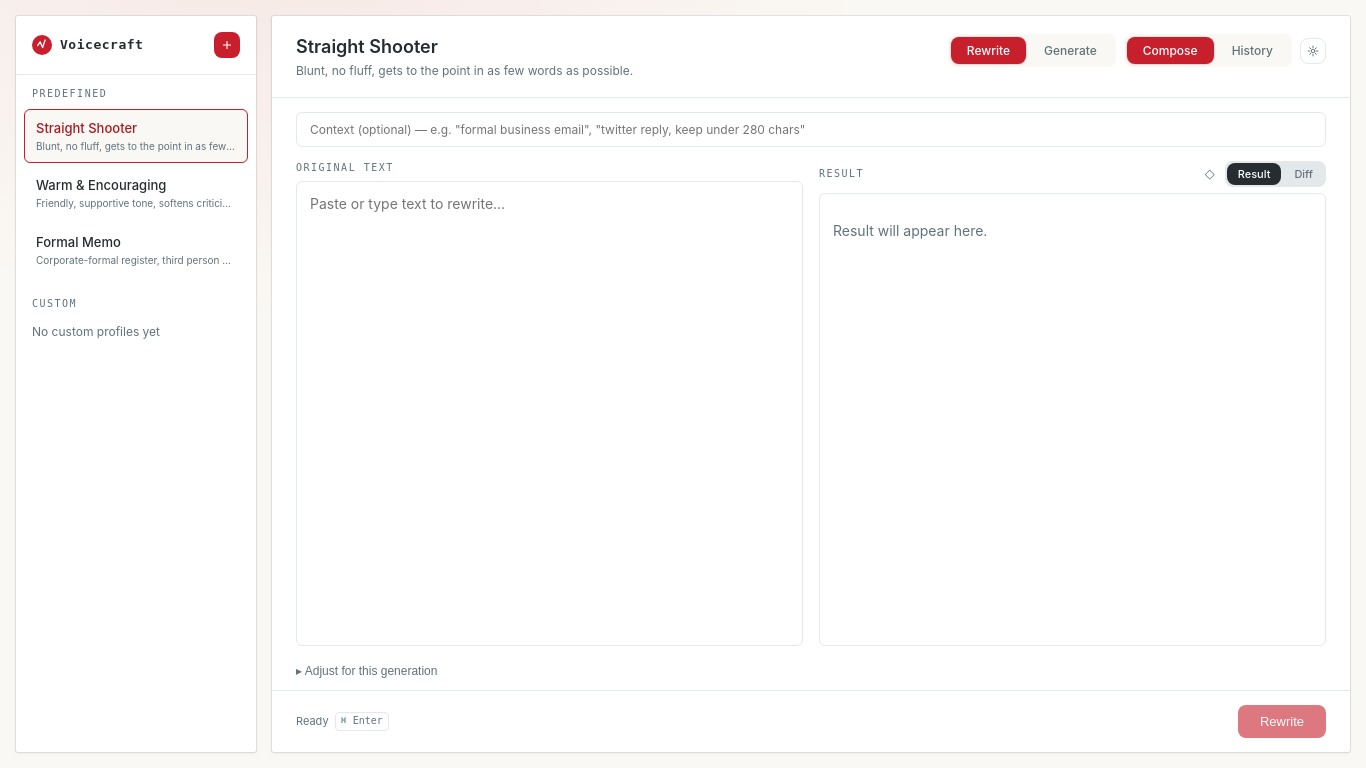
App › runs a rewrite and shows the result
Type "hey there" into the text box with placeholder "Paste or type text to rewrite..." at (550, 414), box x1=296 y1=181 x2=803 y2=646
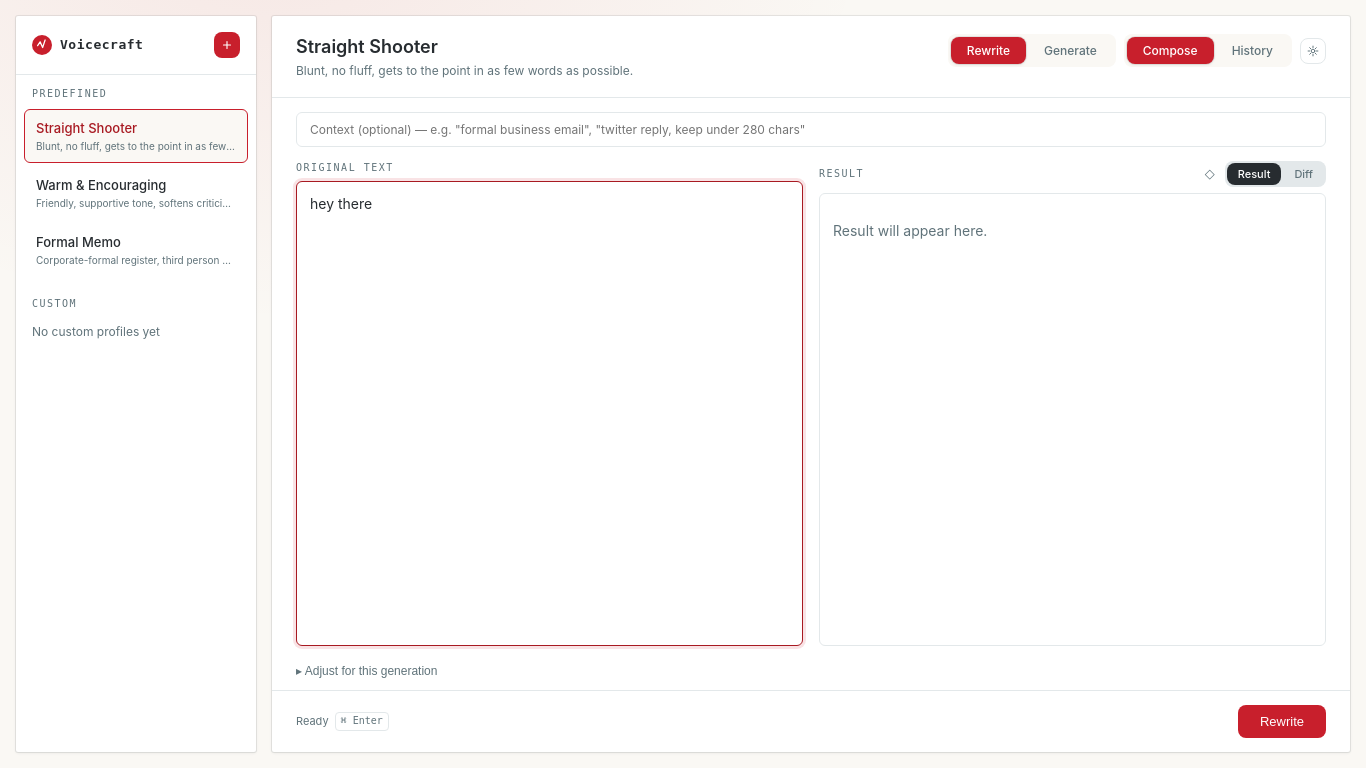
Click the button with test id "run-btn" at (1282, 722), box x1=1238 y1=705 x2=1326 y2=738
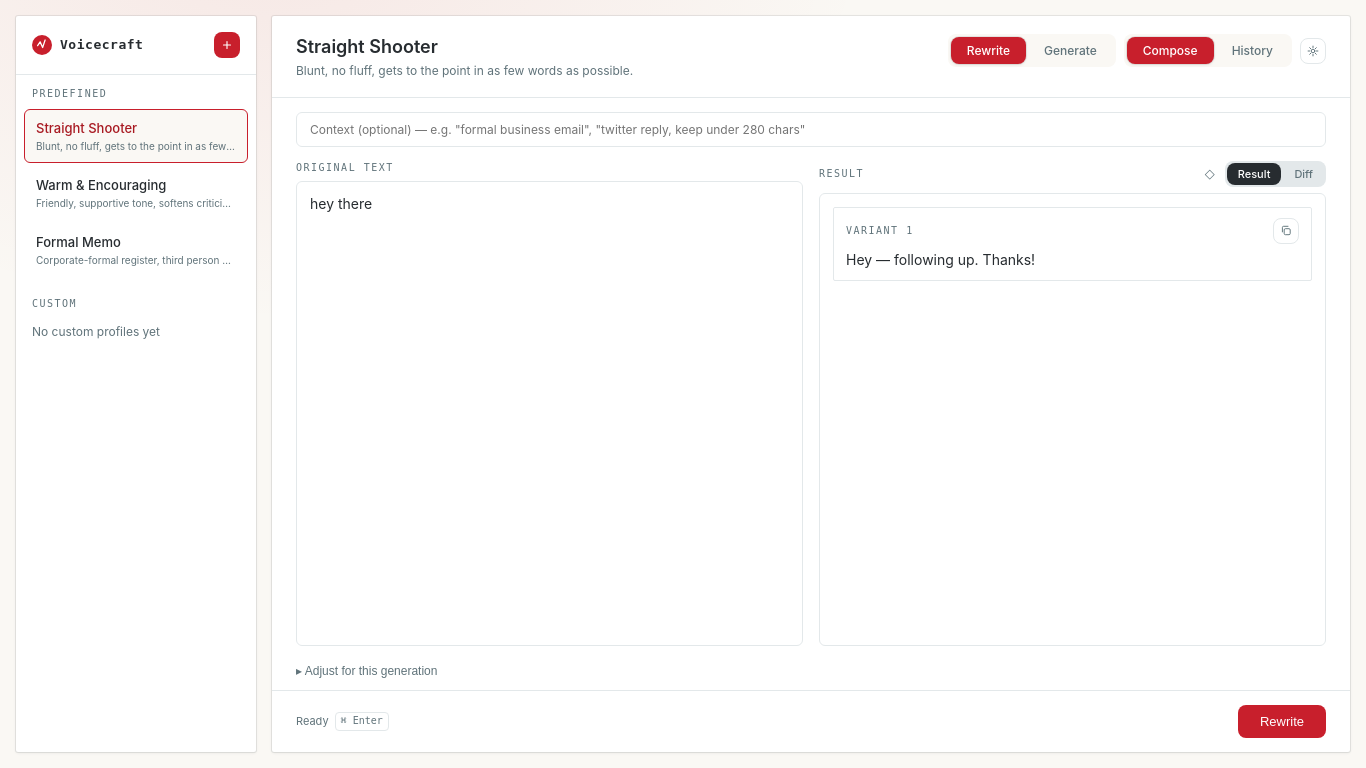
Check: the text "Hey — following up. Thanks!" is shown, box x1=846 y1=251 x2=1035 y2=268
